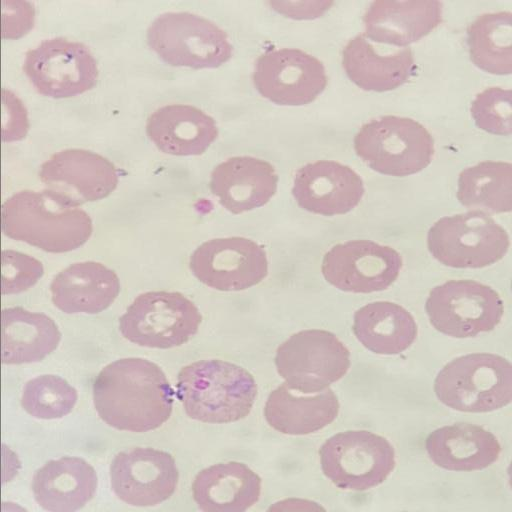Infected: (176, 358, 256, 422)
Uninfected: (93, 358, 172, 431), (1, 191, 92, 253), (147, 10, 232, 69), (274, 329, 348, 395), (354, 115, 433, 175), (427, 210, 507, 269), (120, 289, 200, 348), (433, 351, 509, 413), (319, 429, 394, 491), (39, 148, 119, 204), (424, 279, 501, 337), (23, 38, 97, 97), (252, 47, 326, 105), (343, 34, 417, 92), (190, 235, 268, 290), (322, 238, 401, 292), (209, 155, 278, 213), (111, 447, 178, 506), (146, 103, 218, 156), (264, 383, 338, 433), (51, 260, 119, 313), (293, 163, 364, 213), (425, 423, 498, 471), (33, 456, 96, 511), (352, 299, 416, 353), (193, 461, 259, 512), (1, 306, 58, 362), (20, 373, 76, 418)
